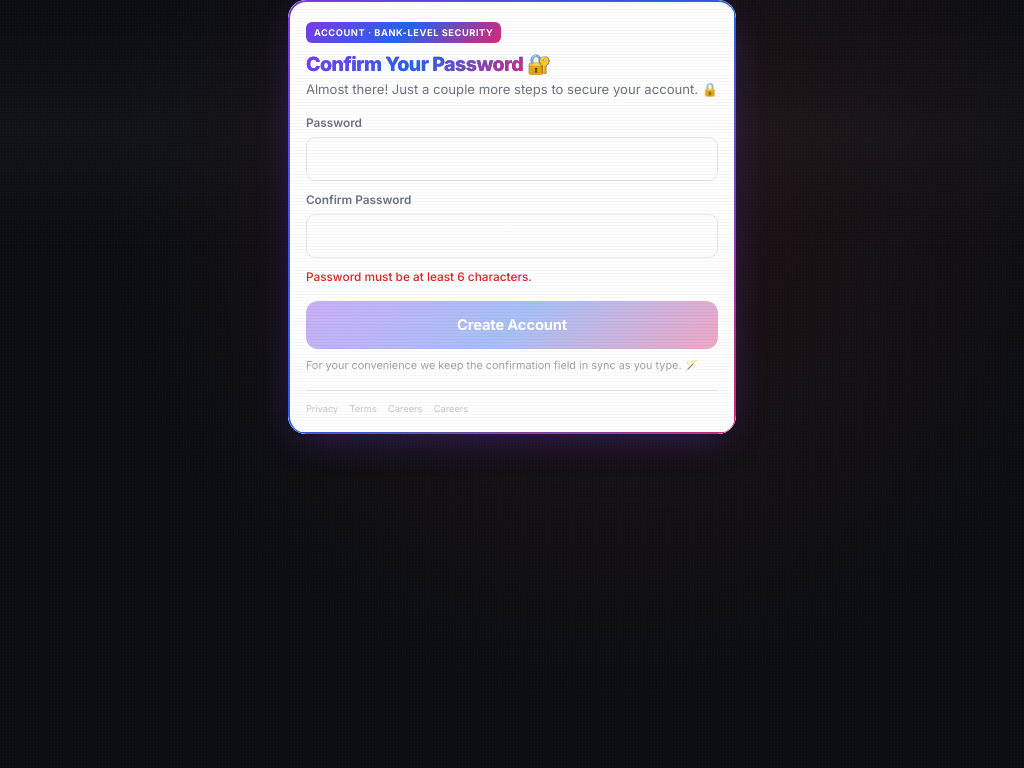
L42 · Confirm Your Password › mirrors one character behind, so they never match on their own
Type "hunter22" into the field labelled "Password" at (512, 159), box [306, 137, 718, 181]
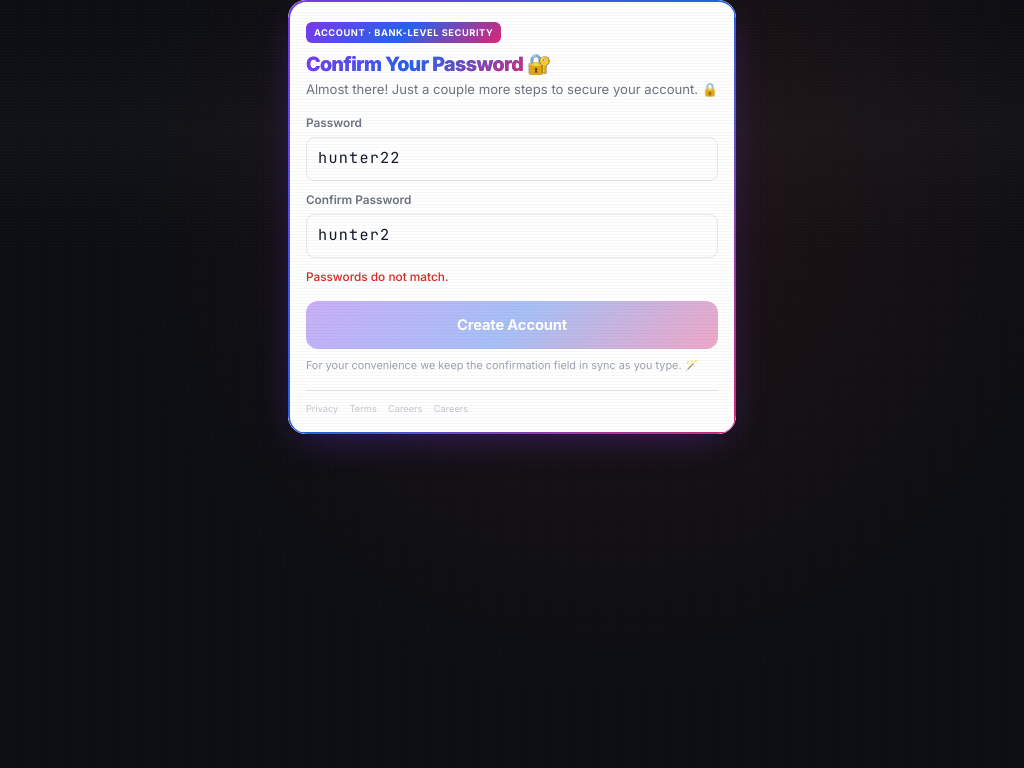
Expected: the field labelled "Confirm Password" holds "hunter2", [306, 214, 718, 258]
Expected: the text "Passwords do not match." is shown, [306, 270, 449, 284]
